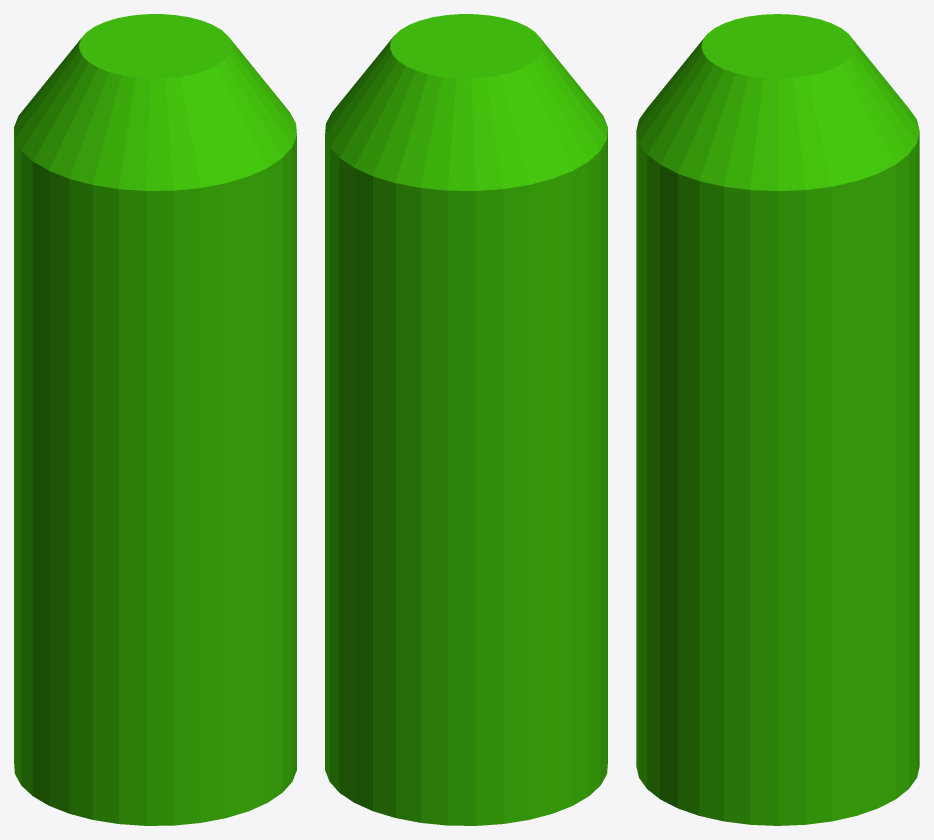
The model's file is GreenBullet.fbx.
3 views of the same model, side by side, from view 1: azimuth 30°, elevation 25°; view 2: azimuth 150°, elevation 25°; view 3: azimuth 270°, elevation 25° (orthographic).
Parts seen in each view (by area): view 1: Cylinder; view 2: Cylinder; view 3: Cylinder.
Part boxes in pixels (bbox=[...]): Cylinder: bbox=[14, 14, 296, 825]; Cylinder: bbox=[325, 14, 607, 825]; Cylinder: bbox=[636, 14, 919, 825].
Size of the model in its own units: 30.19 by 84.56 by 30.19.
1 material, 1 textured.
